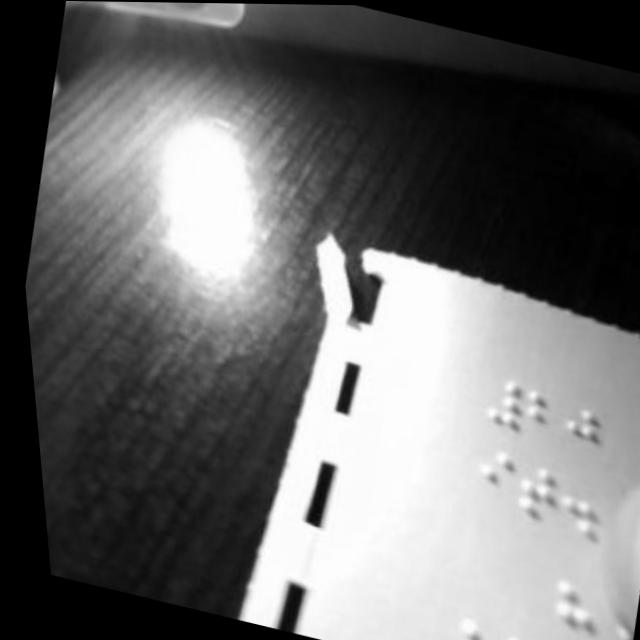braiile: (496, 455, 560, 543), (459, 444, 514, 525), (515, 379, 568, 453), (551, 399, 604, 469), (435, 611, 491, 640), (482, 627, 541, 640)
